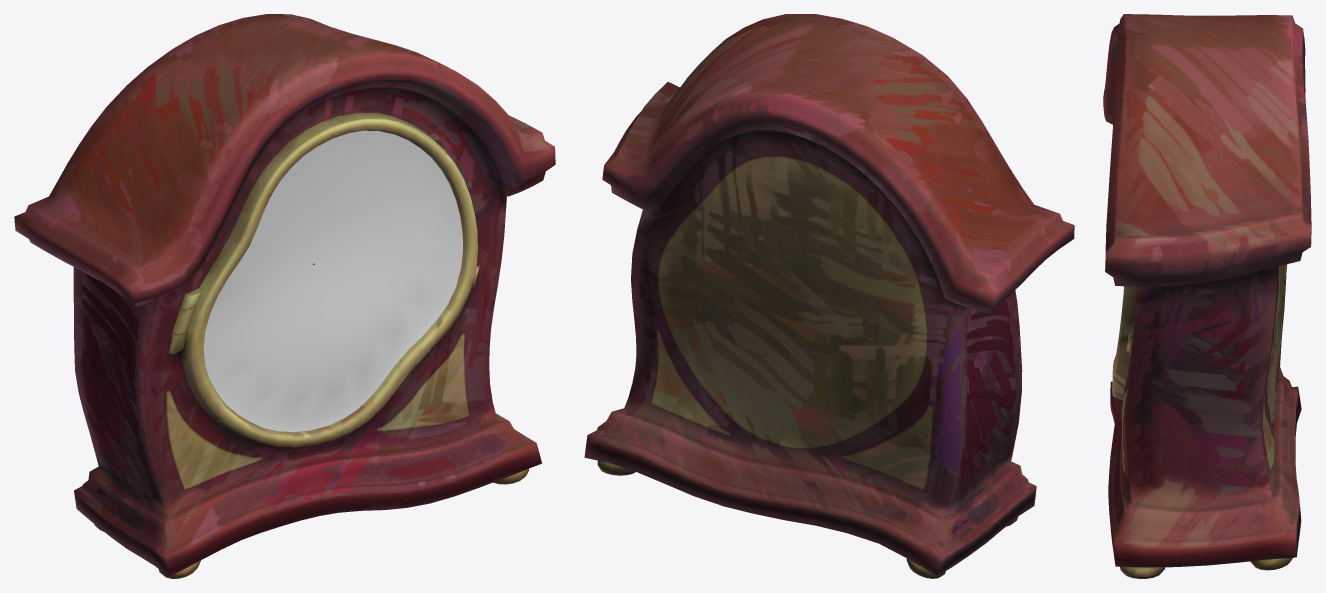
File: prop_clock2.fbx
The picture shows the model from 3 angles, left to right: view 1: azimuth 30°, elevation 25°; view 2: azimuth 150°, elevation 25°; view 3: azimuth 270°, elevation 25°; orthographic projection. The views are drawn at different scales.
Visible parts, largest first — view 1: prop_clock2_common, prop_clock2_glass; view 2: prop_clock2_common; view 3: prop_clock2_common.
Boxes of the visible parts, x1=… form: prop_clock2_common: x1=14, y1=14, x2=555, y2=578; prop_clock2_glass: x1=203, y1=130, x2=462, y2=432; prop_clock2_common: x1=584, y1=14, x2=1074, y2=578; prop_clock2_common: x1=1103, y1=14, x2=1311, y2=578.
Bounding box in the file's own units: 1.46 × 1.52 × 0.6011.
